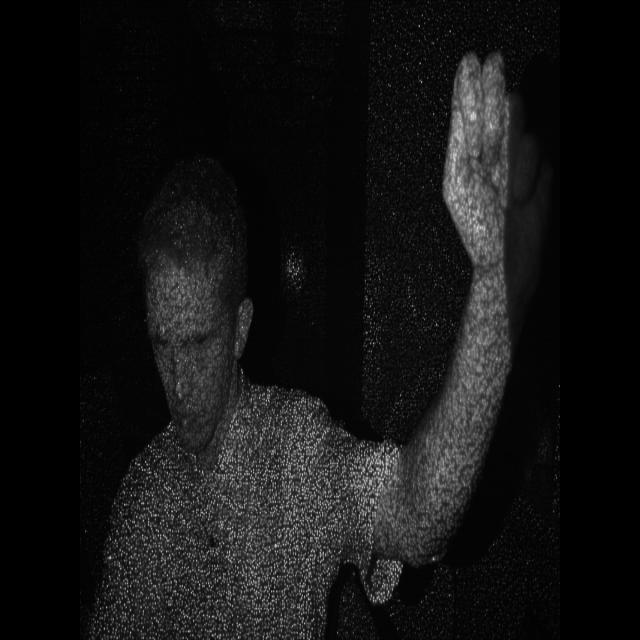N: (434, 31, 558, 292)
